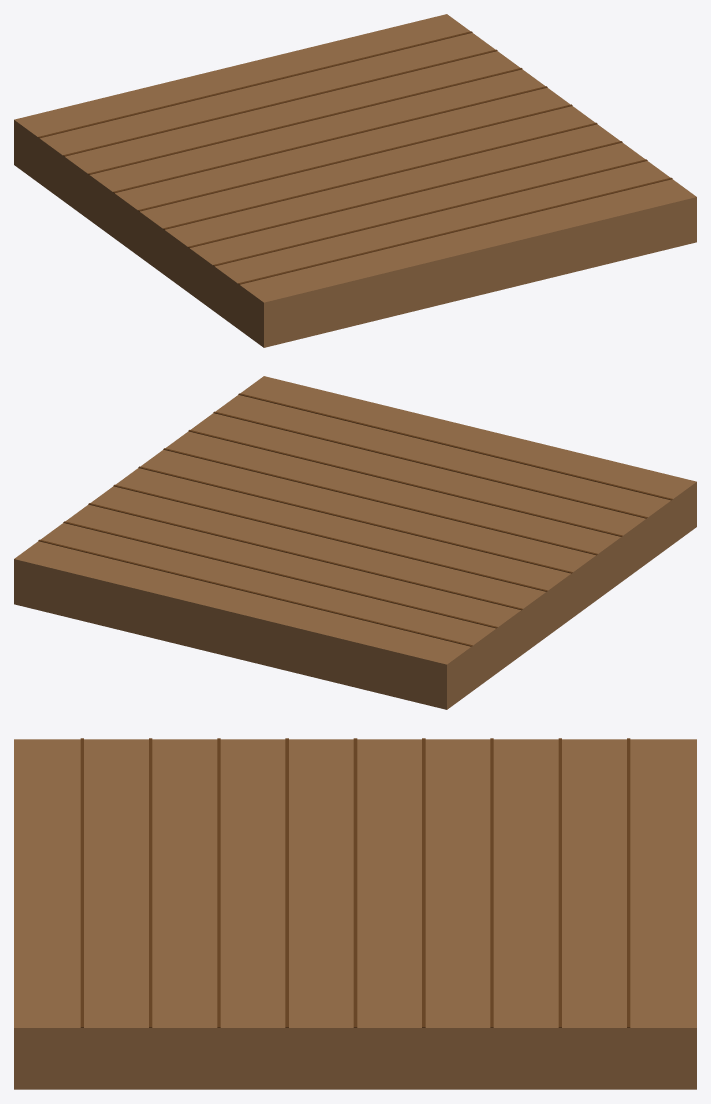
The model's file is floor_wood_2x2.glb.
3 views of the same model, one above another, from view 1: azimuth 30°, elevation 25°; view 2: azimuth 150°, elevation 25°; view 3: azimuth 270°, elevation 25° (orthographic). The views are drawn at different scales.
Visible parts, largest first — view 1: floor_wood_2x2; view 2: floor_wood_2x2; view 3: floor_wood_2x2.
Boxes of the visible parts, x1,y1,x2,y2 form: floor_wood_2x2: (14, 14, 696, 347); floor_wood_2x2: (14, 376, 696, 709); floor_wood_2x2: (14, 738, 696, 1089).
Bounding box in the file's own units: 2 × 0.203 × 2.
